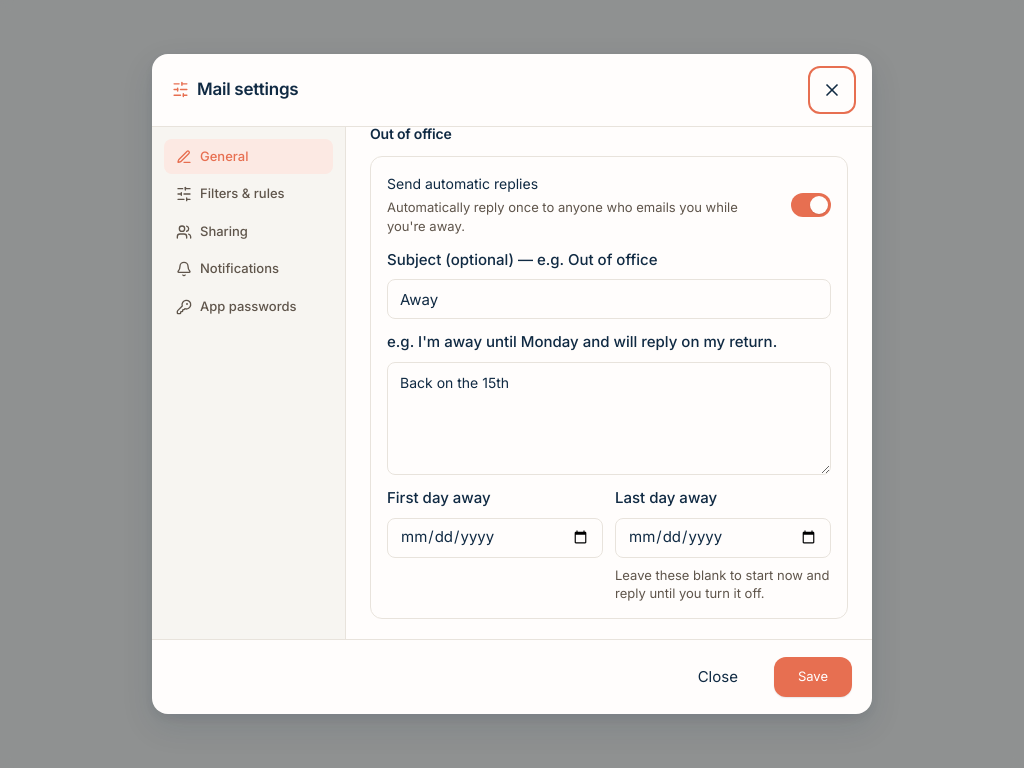
Scenario: out-of-office is a schedule, not a switch › an end before the start is refused here, not by a save error
(page scrolled)
Type "2026-09-15" into the date field labelled "First day away". click: (495, 538)
box: [387, 518, 603, 558]
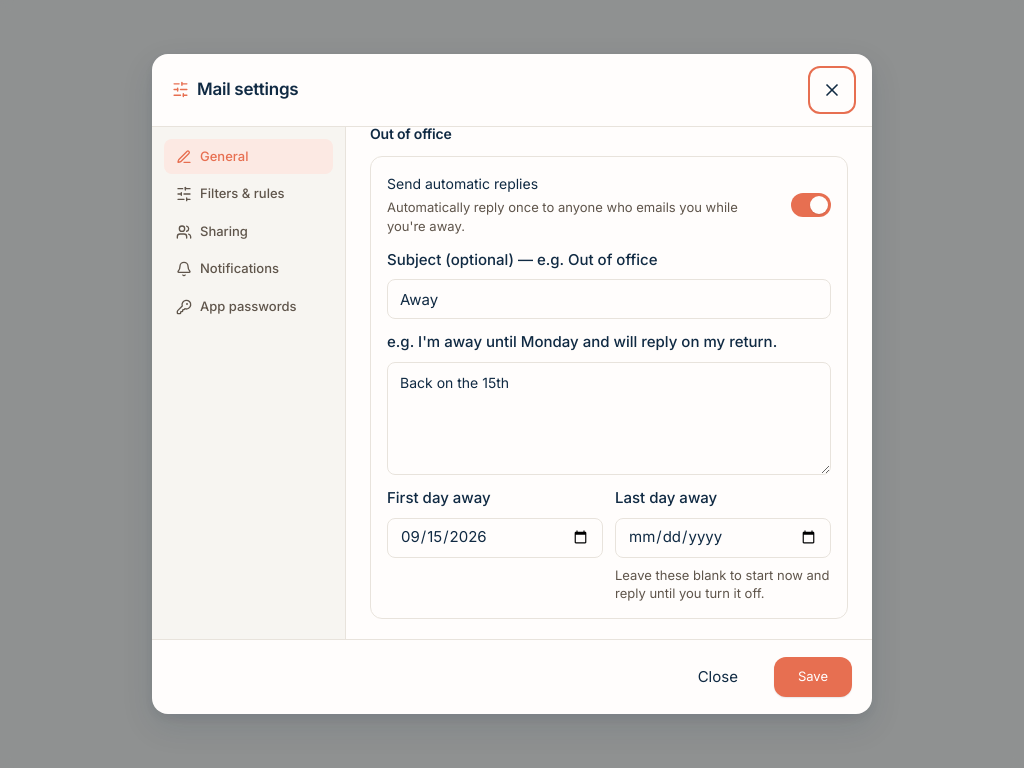
Type "2026-09-01" into the date field labelled "Last day away". click: (723, 538)
box: [615, 518, 831, 558]
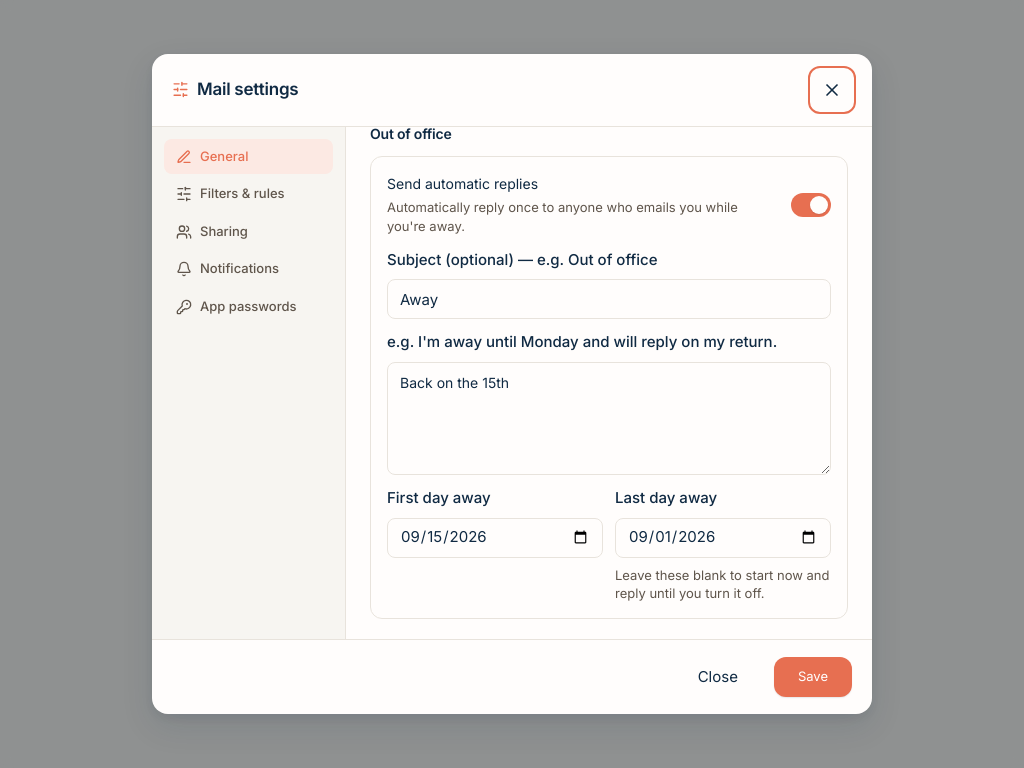
Click the button "Save". click: click(813, 677)
box: [774, 657, 852, 697]
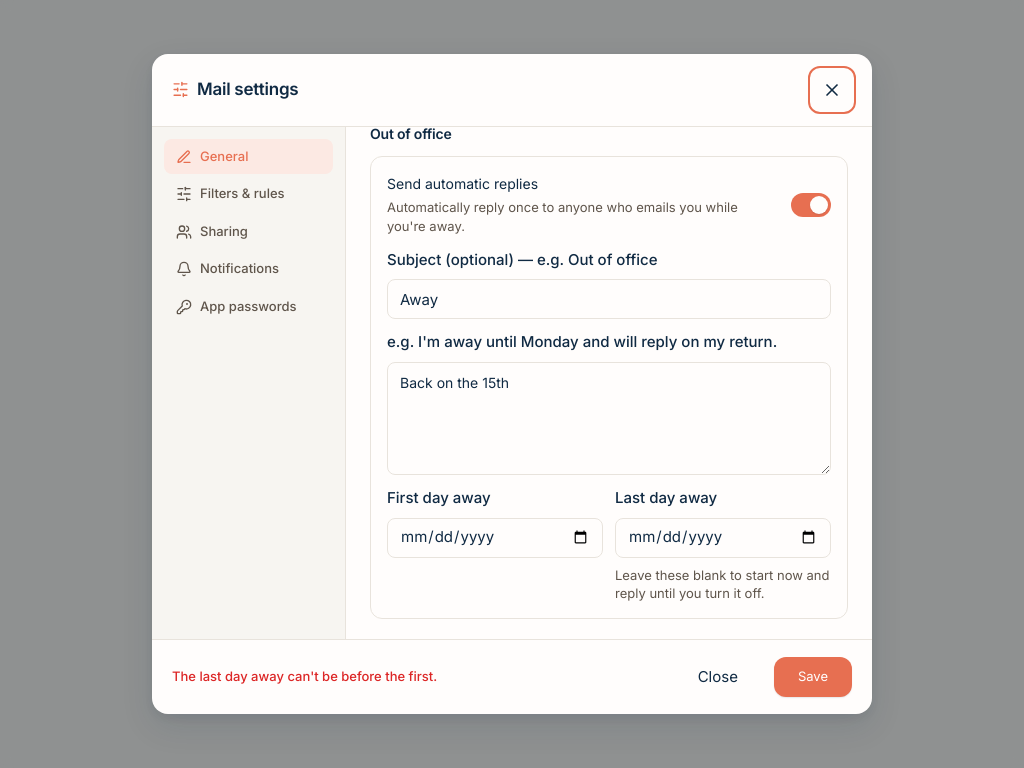
Result: the message reads "The last day away can't be before the first." at [172, 668, 437, 684]
